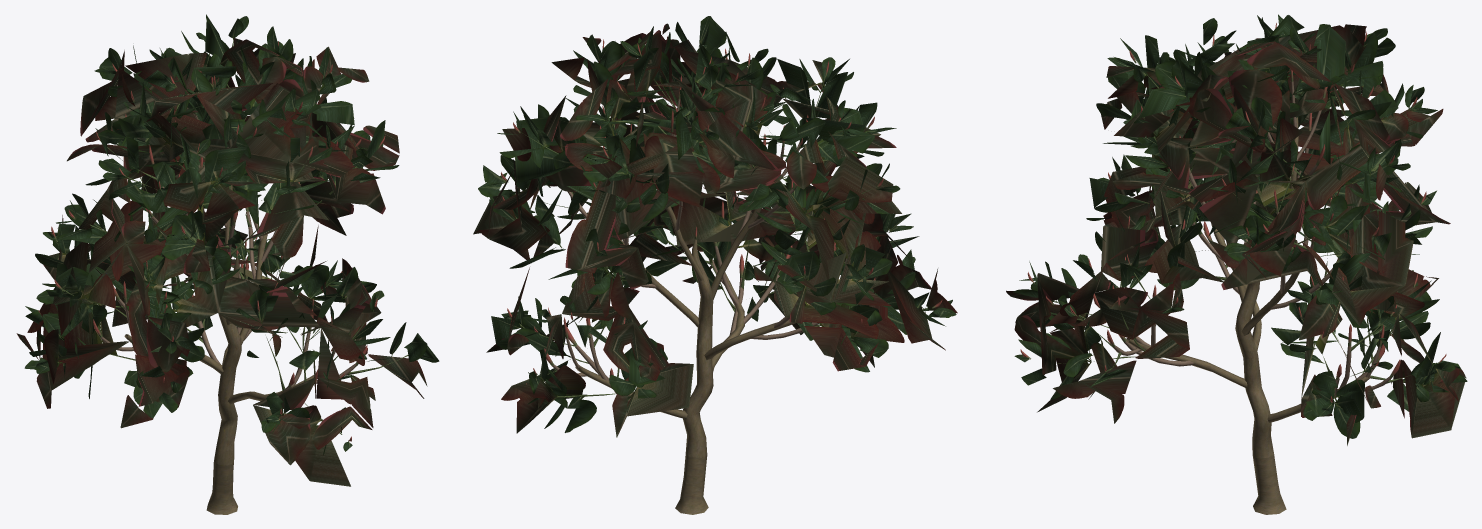
File: rubberfig.glb
3 renders of one model, left to right at view 1: azimuth 30°, elevation 25°; view 2: azimuth 150°, elevation 25°; view 3: azimuth 270°, elevation 25°, orthographic. The views are drawn at different scales.
Visible parts, largest first — view 1: Leaf01_1, Leaf03_1, Bark01_1, Branch03_1, Branch02_1, Branch01_1; view 2: Leaf01_1, Leaf03_1, Bark01_1, Branch01_1, Branch03_1, Branch02_1; view 3: Leaf01_1, Leaf03_1, Bark01_1, Branch01_1, Branch03_1, Branch02_1.
Part boxes in pixels (x1,y1,x2,y2): Leaf01_1: (16, 38, 427, 486); Leaf03_1: (24, 14, 439, 455); Bark01_1: (124, 185, 317, 514); Branch03_1: (38, 41, 385, 441); Branch02_1: (55, 38, 408, 434); Branch01_1: (100, 113, 357, 391); Leaf01_1: (473, 23, 957, 437); Leaf03_1: (478, 16, 956, 432); Bark01_1: (575, 190, 795, 514); Branch01_1: (552, 99, 846, 402); Branch03_1: (501, 39, 942, 384); Branch02_1: (515, 48, 872, 400); Leaf01_1: (1006, 24, 1466, 445); Leaf03_1: (1013, 14, 1467, 438); Bark01_1: (1126, 117, 1370, 514); Branch01_1: (1113, 81, 1391, 398); Branch03_1: (1020, 23, 1446, 402); Branch02_1: (1054, 57, 1436, 400).
Size of the model in its own units: 197 by 224 by 193.
Materials: 6 (6 with a texture image).
